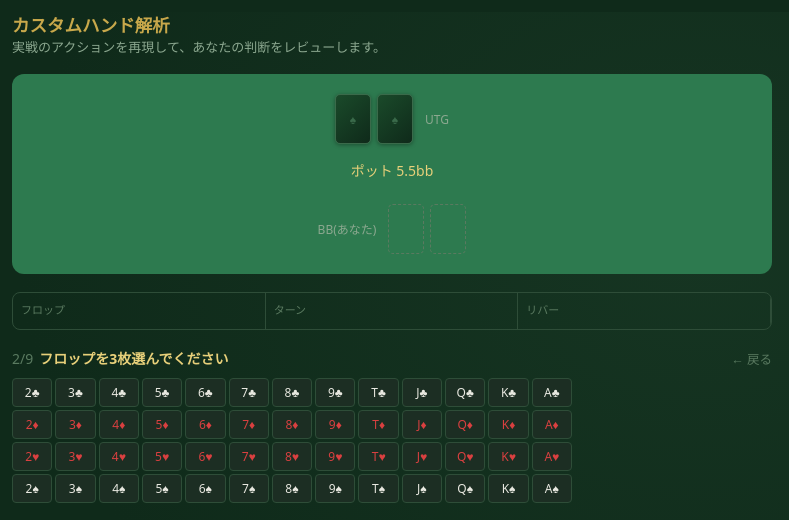
it: AnalyzerScreen › 「戻る」でフロップ選択ステップからマッチアップ選択ステップへ戻れる
Expected: the heading "カスタムハンド解析" is shown, [12,13,170,37]
Expected: the text "フロップを3枚選んでください" is shown, [39,349,229,368]
Step 1. Click the button "← 戻る" → (752, 358), box [731,348,772,368]
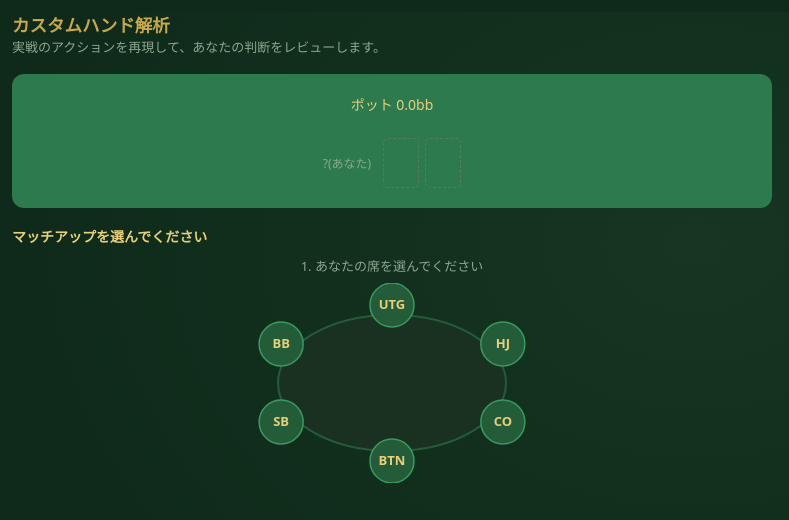
Now the text "マッチアップを選んでください" is shown, box [12,226,207,246]
